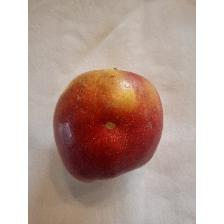Apfel: (51, 67, 165, 185)
